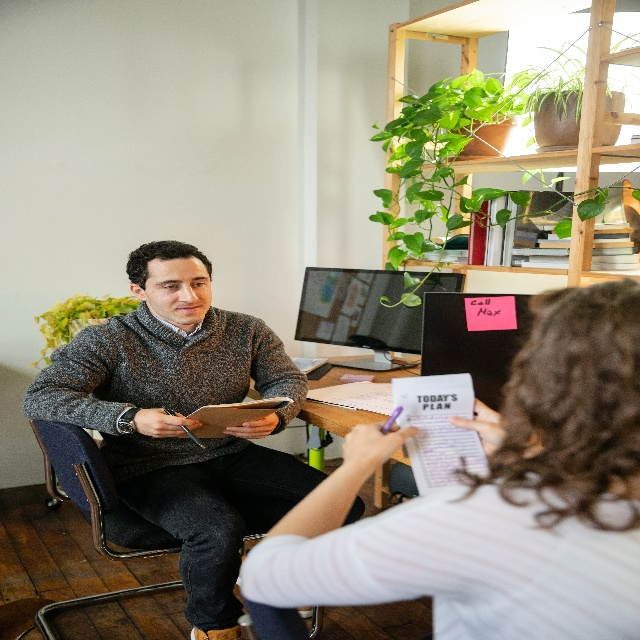Sin_guantes: (341, 416, 419, 474), (447, 392, 508, 457), (135, 407, 203, 441), (222, 414, 280, 440)
